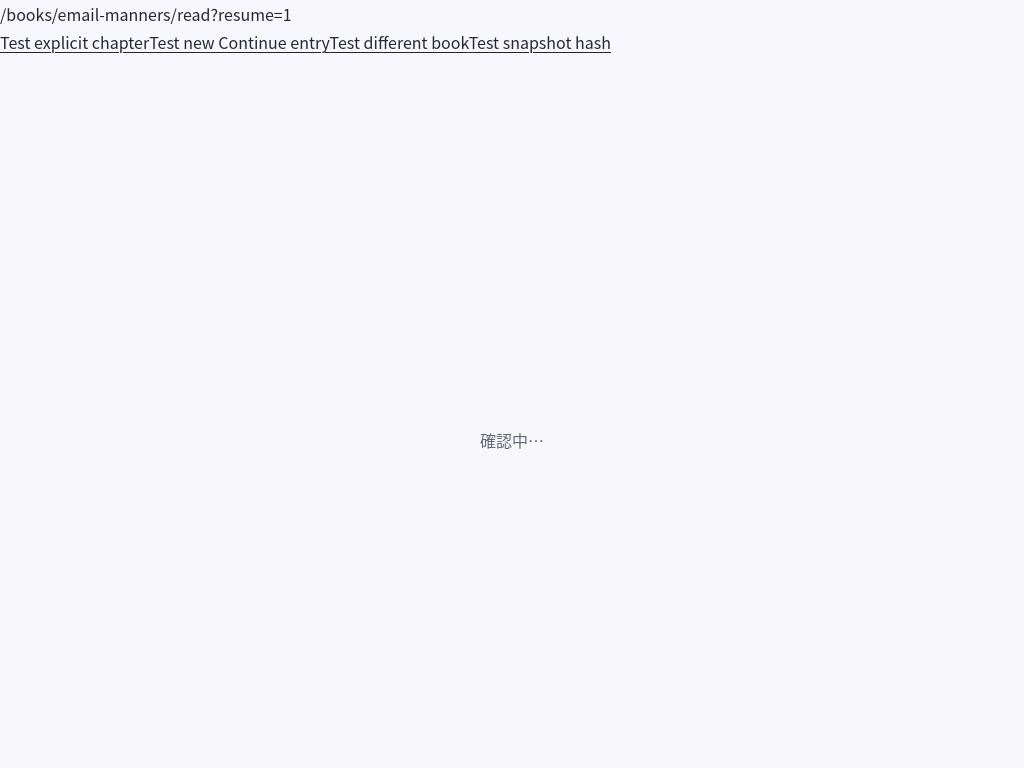
Test case: reader resume intent › lets a deliberate chapter navigation supersede a pending resume read
expect the text "確認中…" is shown: met, box [480, 426, 544, 454]
Click the link "Test explicit chapter".
click(75, 42)  # box [0, 30, 149, 54]
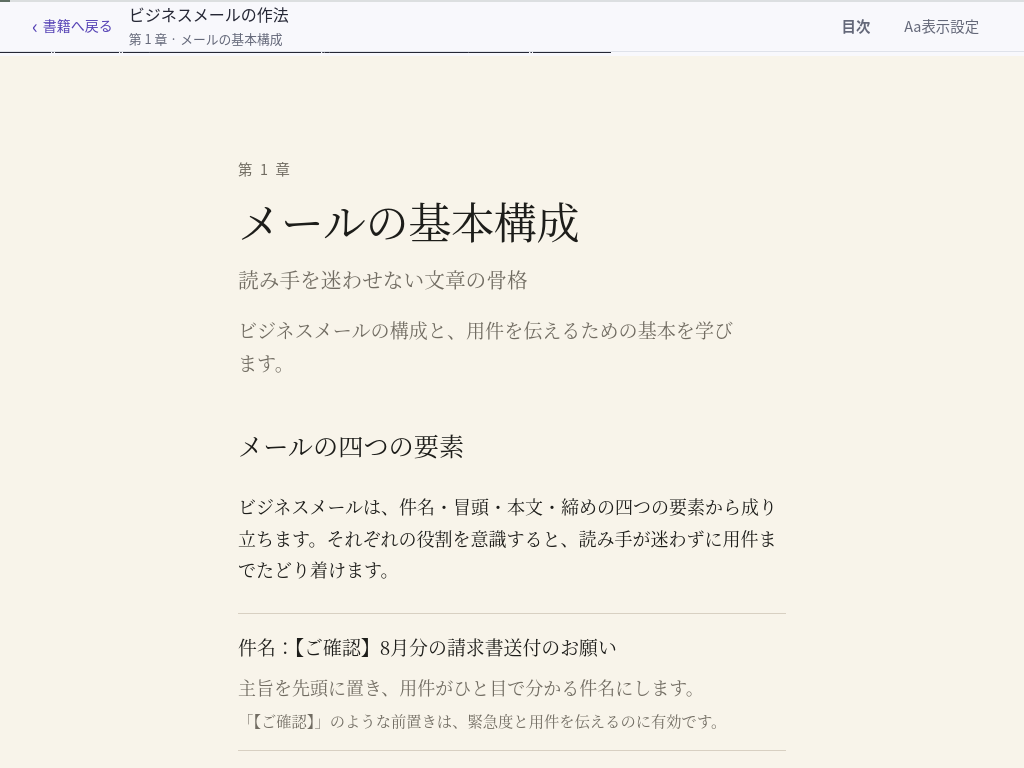
expect the text with test id "location" shows "/read/email-basics": met, box [0, 2, 310, 26]
expect the heading "メールの基本構成" is shown: met, box [238, 189, 579, 251]
